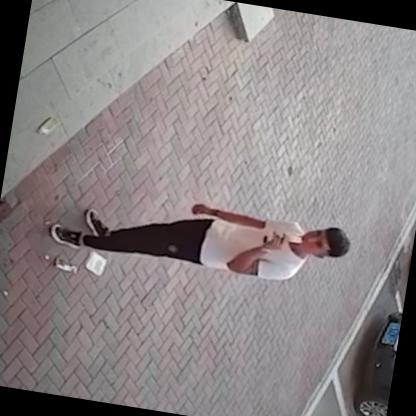Human Body: (41, 175, 356, 296)
